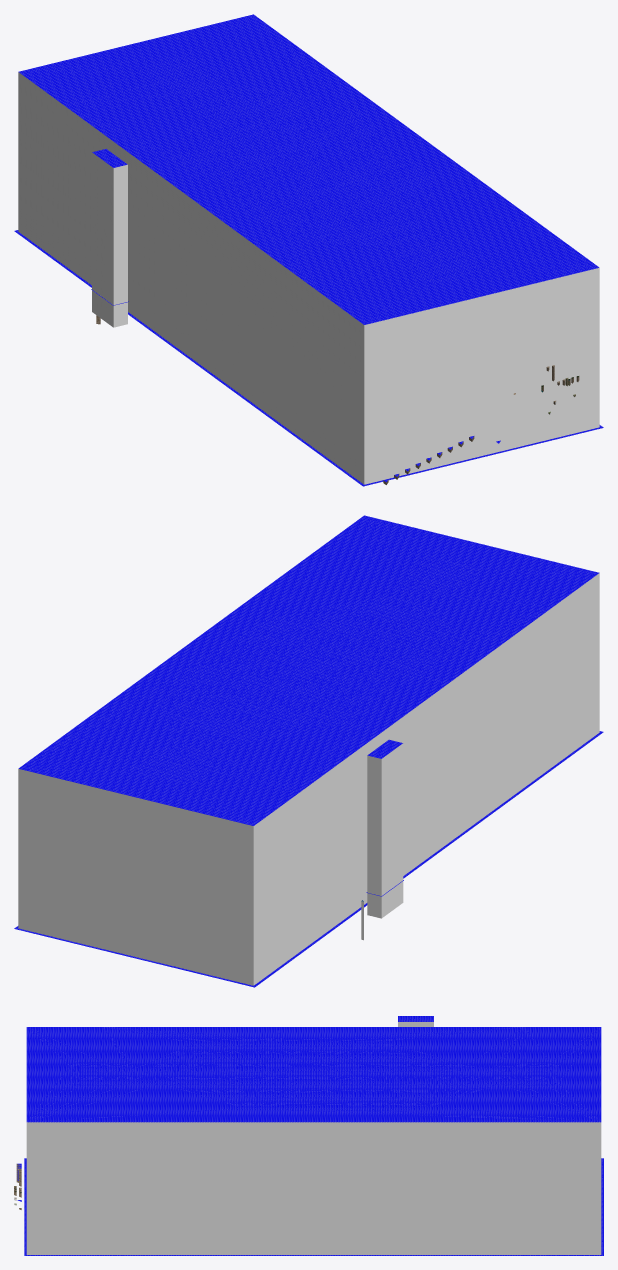
The model's file is MAPF1_LostPalace.obj.
3 views of the same model, one above another, from view 1: azimuth 30°, elevation 25°; view 2: azimuth 150°, elevation 25°; view 3: azimuth 270°, elevation 25° (orthographic). The views are drawn at different scales.
Parts seen in each view (by area): view 1: MAPF1; view 2: MAPF1; view 3: MAPF1.
Part boxes in pixels (<box>): MAPF1: <box>14,14,603,486</box>; MAPF1: <box>14,515,603,987</box>; MAPF1: <box>14,1016,603,1255</box>.
Size of the model in its own units: 6360 by 4096 by 14720.
